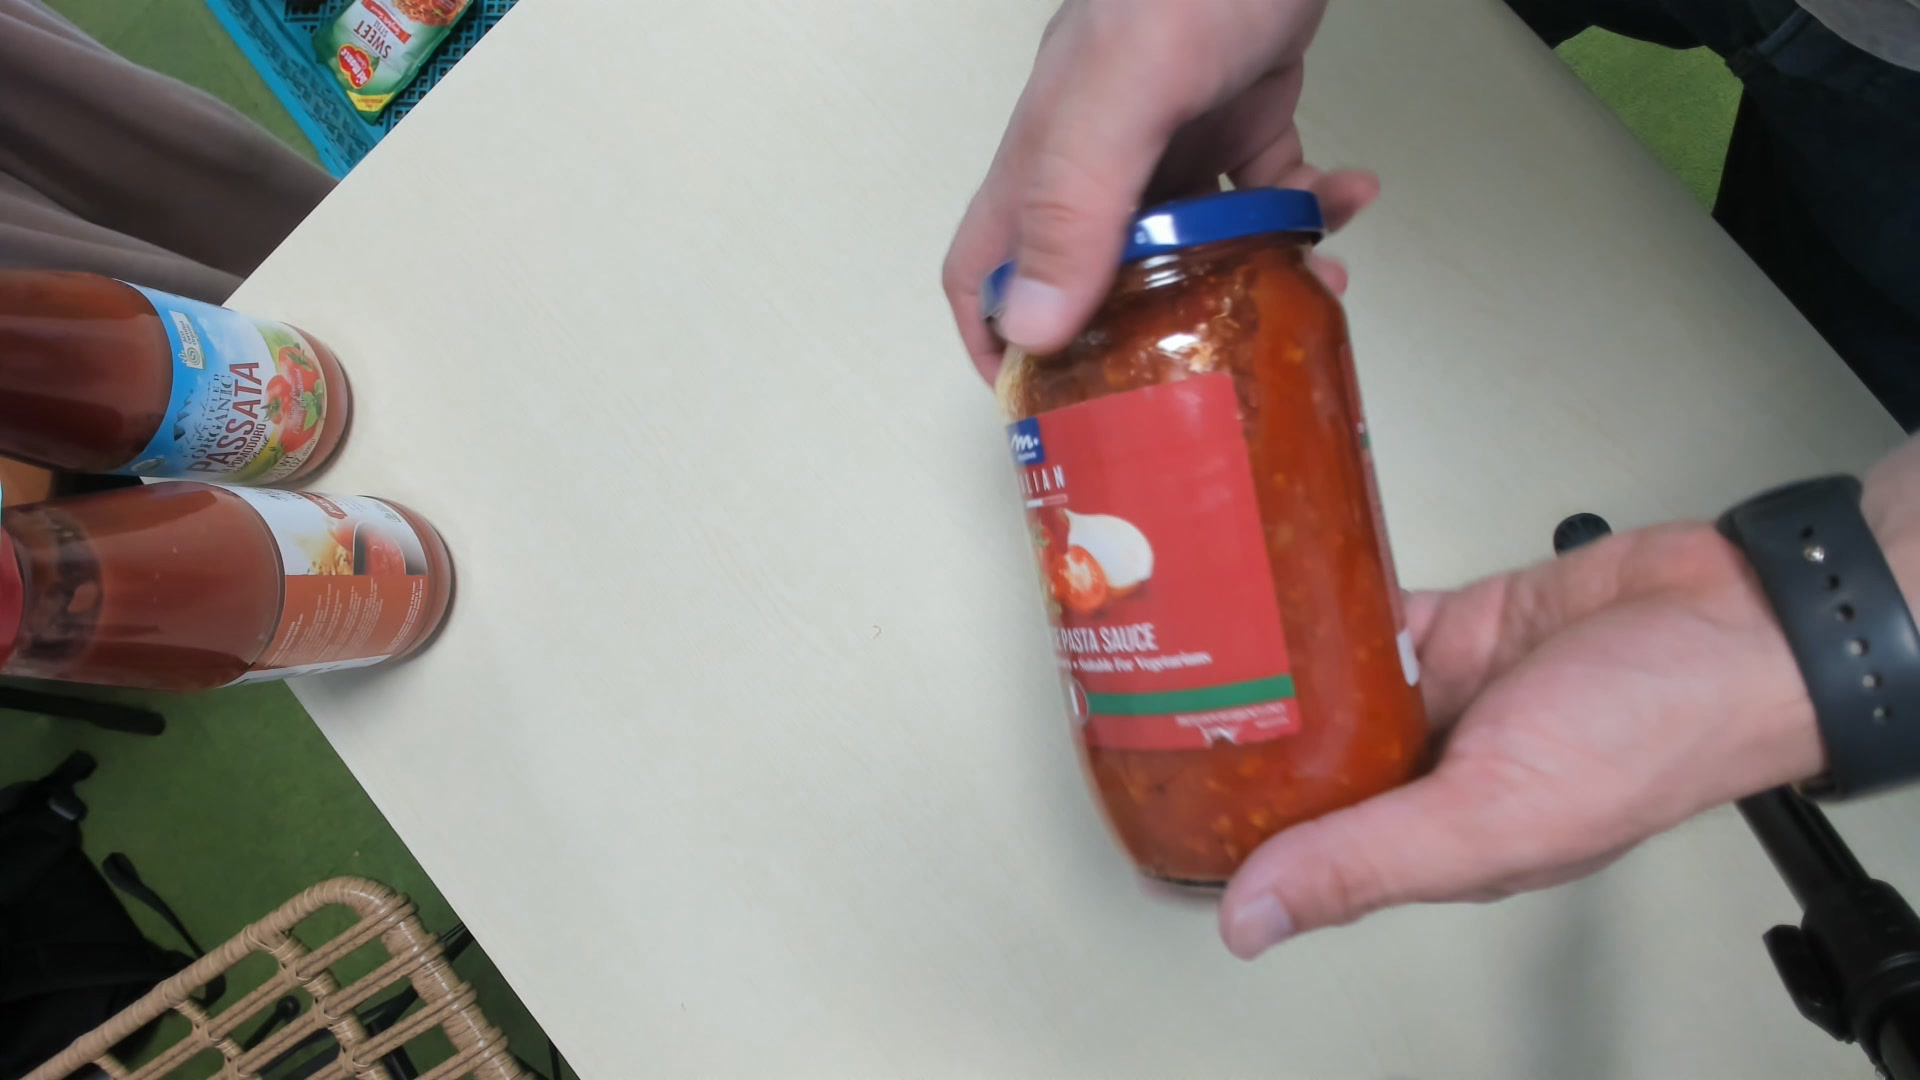PastaSauce_600-699g_Halal_NonHealthy: (992, 189, 1443, 906)
